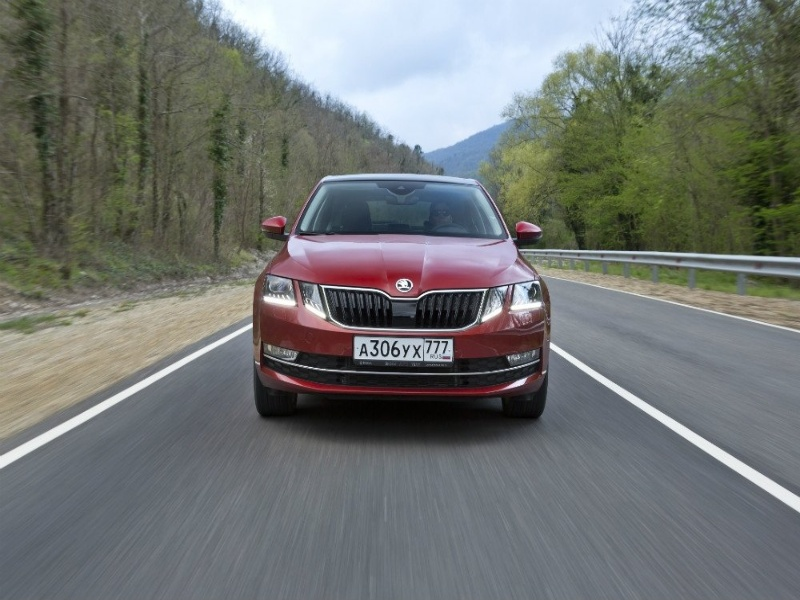car: (252, 173, 550, 418)
person: (429, 200, 452, 227)
plate: (352, 334, 453, 364)
